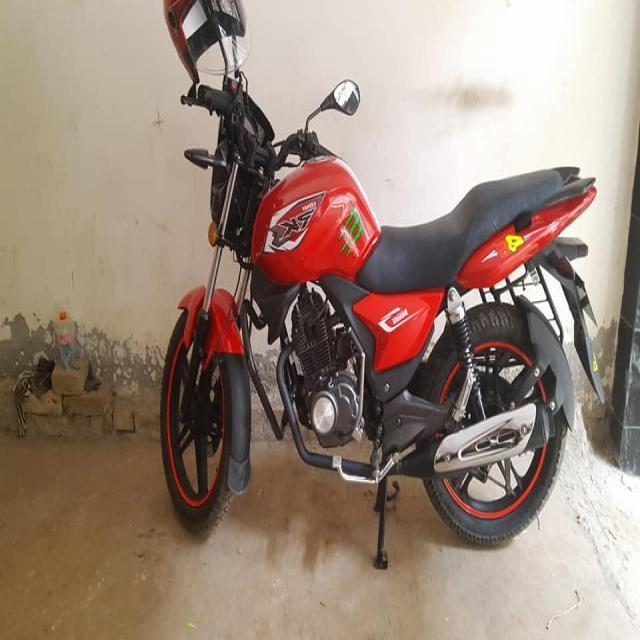Motorbike: (128, 1, 620, 588)
